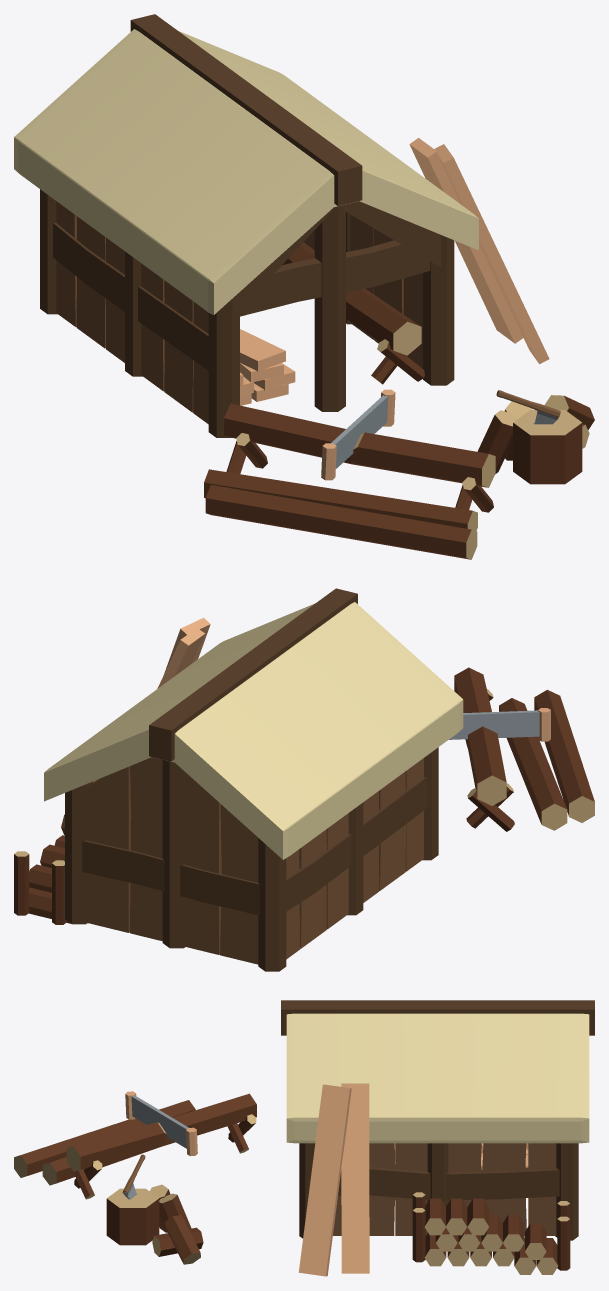
File: WoodShop.fbx
The picture shows the model from 3 angles, top to bottom: view 1: azimuth 30°, elevation 25°; view 2: azimuth 150°, elevation 25°; view 3: azimuth 270°, elevation 25°; orthographic projection. The views are drawn at different scales.
Visible parts, largest first — view 1: Cylinder.111; view 2: Cylinder.111; view 3: Cylinder.111.
Part boxes in pixels (x1,y1,x2,y2): Cylinder.111: (14,14,594,559); Cylinder.111: (14,588,594,971); Cylinder.111: (14,1000,594,1276).
Bounding box in the file's own units: 1384 × 828 × 2143.
